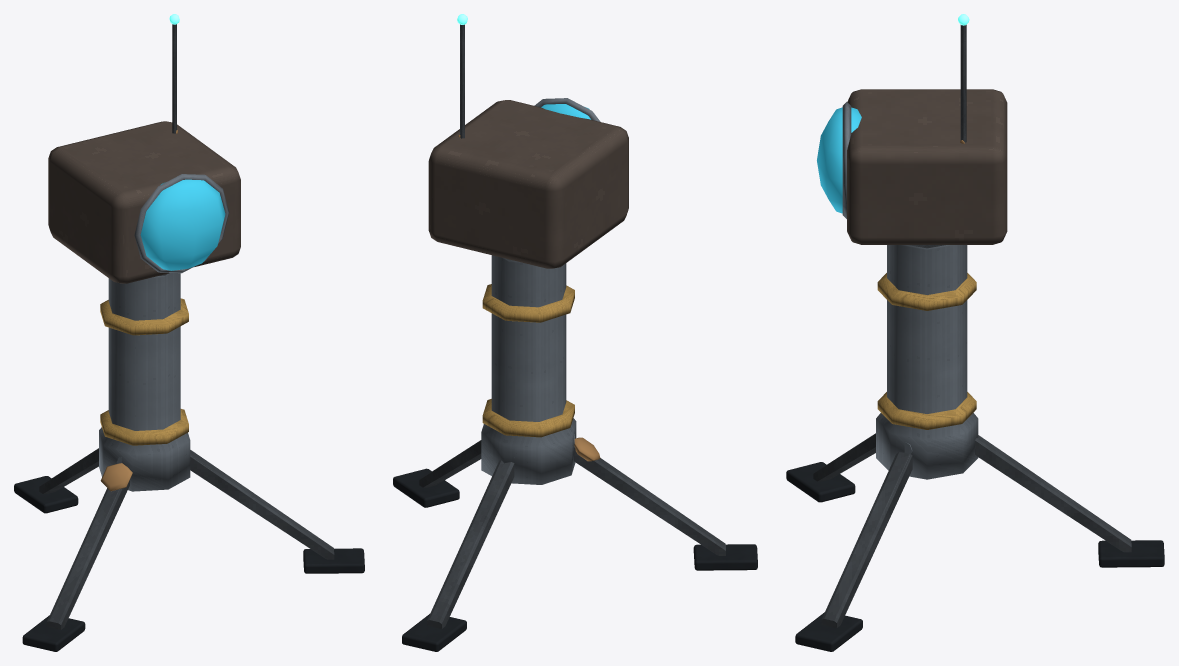
File: sentry-node.lod2.glb
The picture shows the model from 3 angles, left to right: view 1: azimuth 30°, elevation 25°; view 2: azimuth 150°, elevation 25°; view 3: azimuth 270°, elevation 25°; orthographic projection. The views are drawn at different scales.
Visible parts, largest first — view 1: ceramic / ceramic composite panel, alloy / machined anodized alloy, darksteel / oil-blackened fittings, crystal / faceted crystal, polymer / stippled polymer, brass / polished brass furniture, peened pin; view 2: ceramic / ceramic composite panel, alloy / machined anodized alloy, darksteel / oil-blackened fittings, polymer / stippled polymer, brass / polished brass furniture; view 3: ceramic / ceramic composite panel, alloy / machined anodized alloy, darksteel / oil-blackened fittings, polymer / stippled polymer, brass / polished brass furniture, crystal / faceted crystal.
Part boxes in pixels (x1,y1,x2,y2): ceramic / ceramic composite panel: (48, 121, 240, 283); alloy / machined anodized alloy: (99, 174, 229, 491); darksteel / oil-blackened fittings: (39, 24, 334, 629); crystal / faceted crystal: (140, 179, 225, 270); polymer / stippled polymer: (14, 476, 364, 651); brass / polished brass furniture: (100, 298, 188, 445); peened pin: (100, 130, 177, 491); ceramic / ceramic composite panel: (428, 100, 628, 268); alloy / machined anodized alloy: (481, 98, 600, 484); darksteel / oil-blackened fittings: (419, 24, 725, 628); polymer / stippled polymer: (393, 468, 757, 651); brass / polished brass furniture: (482, 284, 574, 437); ceramic / ceramic composite panel: (847, 89, 1007, 244); alloy / machined anodized alloy: (842, 102, 978, 479); darksteel / oil-blackened fittings: (813, 25, 1131, 627); polymer / stippled polymer: (786, 462, 1164, 651); brass / polished brass furniture: (877, 273, 976, 429); crystal / faceted crystal: (817, 107, 861, 213).
Size of the model in its own units: 0.5896 by 0.864 by 0.5186.
Materials: 8 (5 with a texture image).
